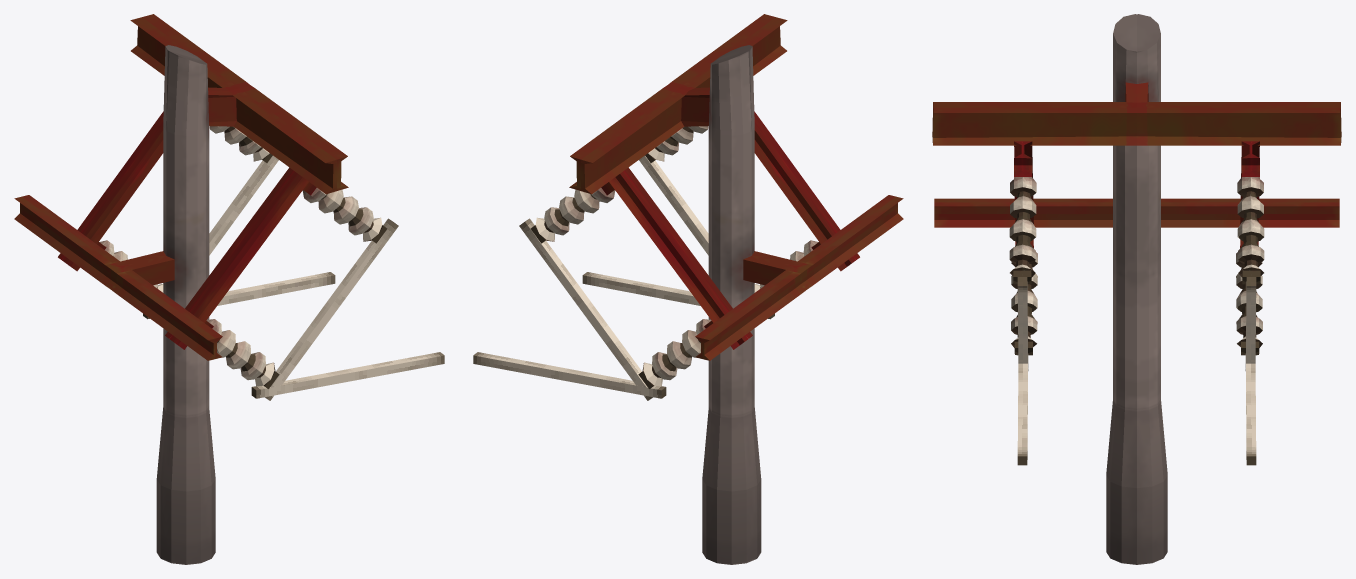
The model's file is GridBreaker.obj.
The picture shows the model from 3 angles, left to right: view 1: azimuth 30°, elevation 25°; view 2: azimuth 150°, elevation 25°; view 3: azimuth 270°, elevation 25°; orthographic projection. The views are drawn at different scales.
Visible parts, largest first — view 1: main, fuse_closed, fuse_open; view 2: main, fuse_closed, fuse_open; view 3: main, fuse_open, fuse_closed.
Boxes of the visible parts, x1,y1,x2,y2 form: main: (14,14,387,564); fuse_closed: (209,155,398,400); fuse_open: (143,272,444,398); main: (530,14,903,564); fuse_closed: (519,155,708,400); fuse_open: (473,272,774,398); main: (932,14,1341,564); fuse_open: (1017,363,1256,465); fuse_closed: (1017,277,1256,370).
Size of the model in its own units: 4.69 by 8.2 by 5.75.
